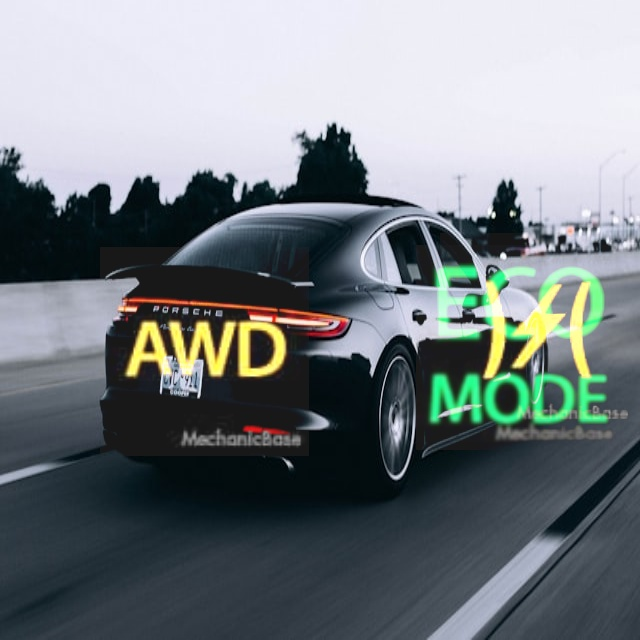symbol: (100, 247, 309, 456), (416, 245, 621, 450), (440, 233, 636, 429)
